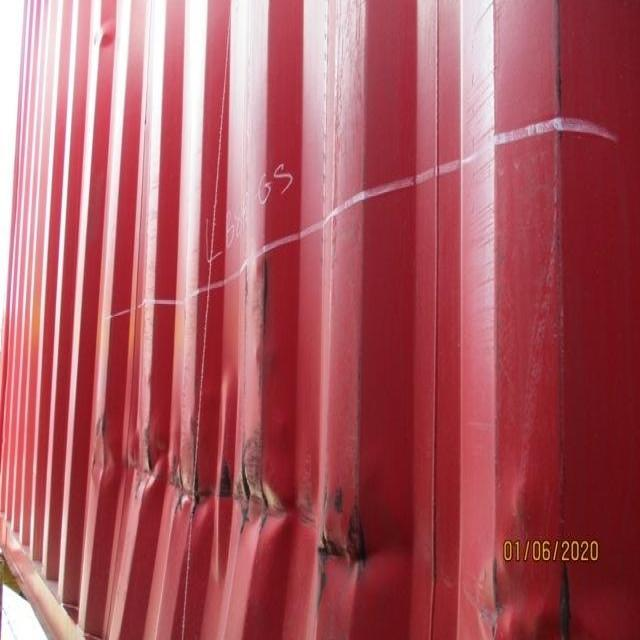dent: (89, 424, 423, 601), (479, 525, 585, 640)
